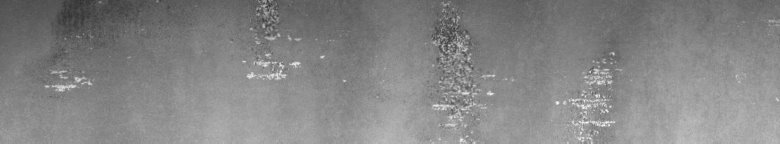hc: (44, 4, 100, 99)
